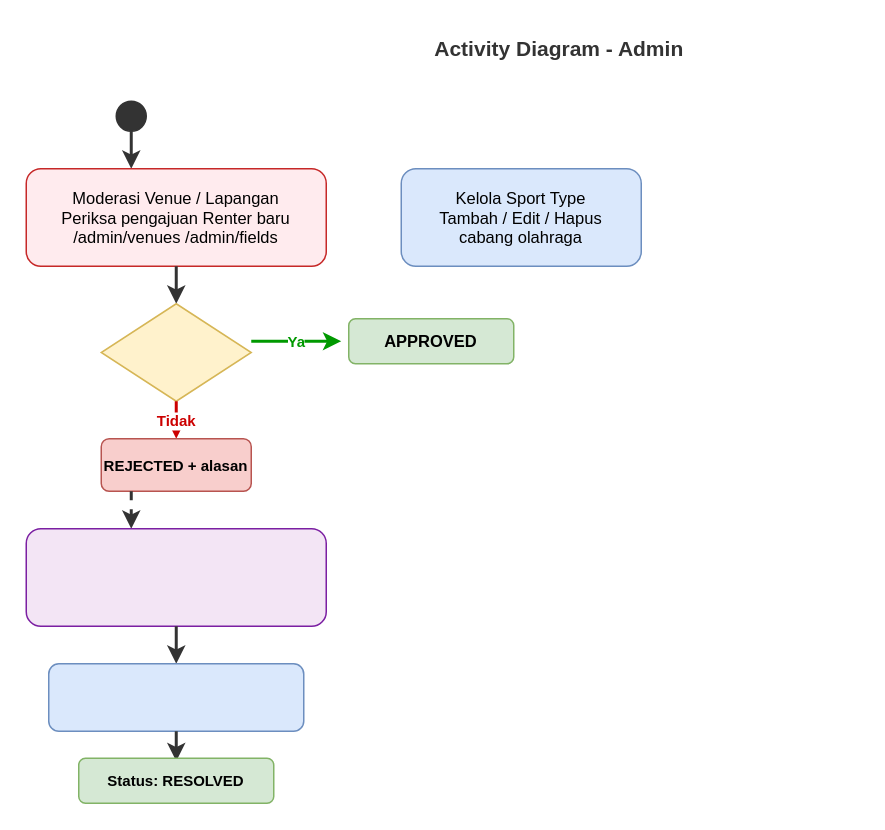
Image size: 885x830. Some labels were removed from this diagram. The shapes that lost their labels are listed below. From the top down, each one's box as (x1, y1, x2, y2) in pixels, then its label:
(100, 302, 251, 401): Layak?
(25, 527, 326, 626): Kelola Pengaduan (Reports) Tinjau laporan keluhan user /admin/reports
(47, 662, 304, 731): Balas Laporan Pesan tersimpan di report_replies
